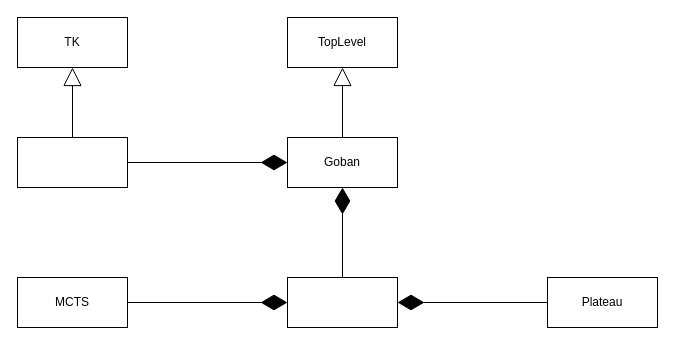
Some shapes in this 675 by 346 pixel diagram are drawn without their labels. The centre of each missing label's shape, as x and y in pixels:
"Menu" goes at point (72, 162).
"MoteurDeJeu" goes at point (342, 302).
